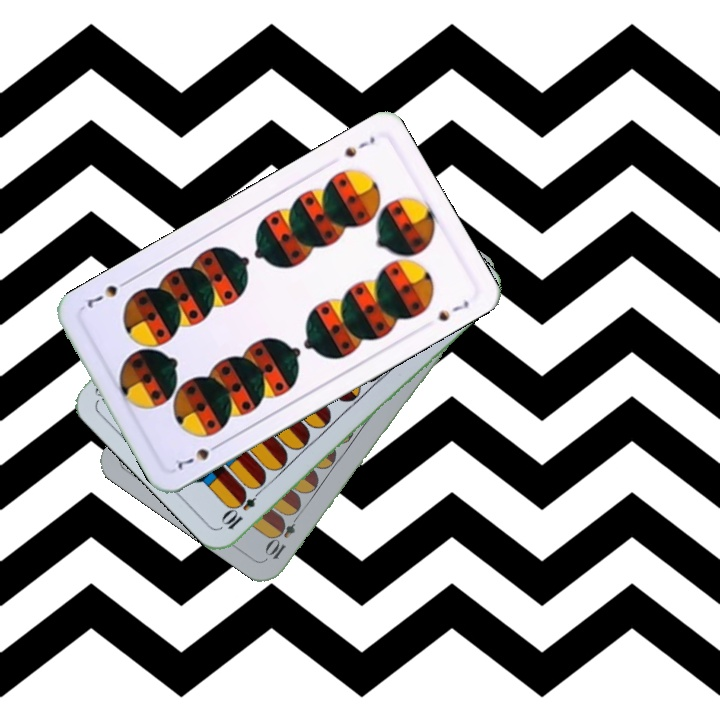E10: (218, 482, 266, 532), (262, 507, 304, 562)
S7: (171, 438, 225, 471), (340, 132, 378, 160)
